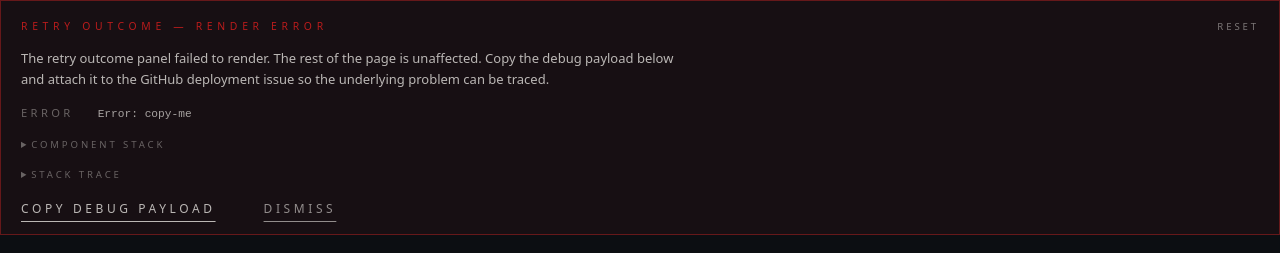
Test: RetryOutcomeErrorBoundary › copies a JSON debug payload including retryOutcome to the clipboard
Step 1. Click the button "Copy debug payload" → [118, 209], box [21,200,216,218]
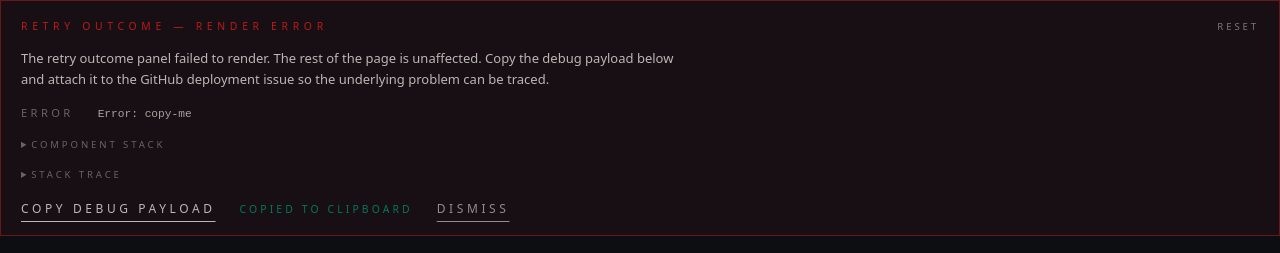
Result: the message reads "Copied to clipboard" at [240,202,413,216]
